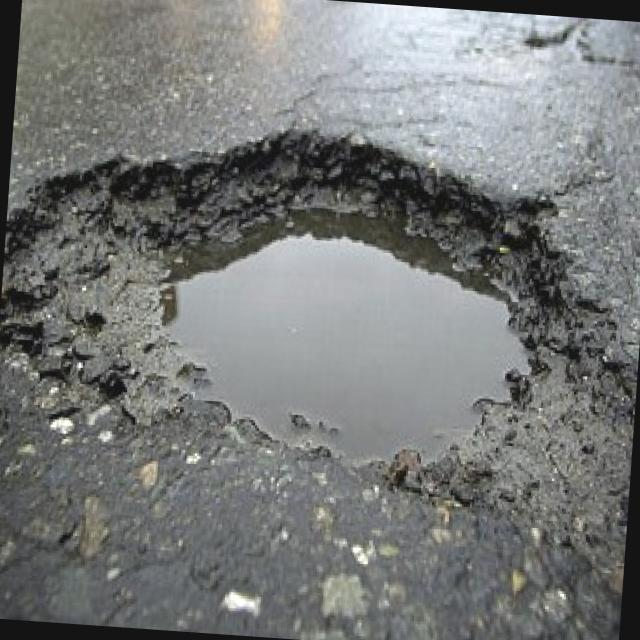bad-road: (0, 103, 640, 600), (524, 15, 640, 74)
